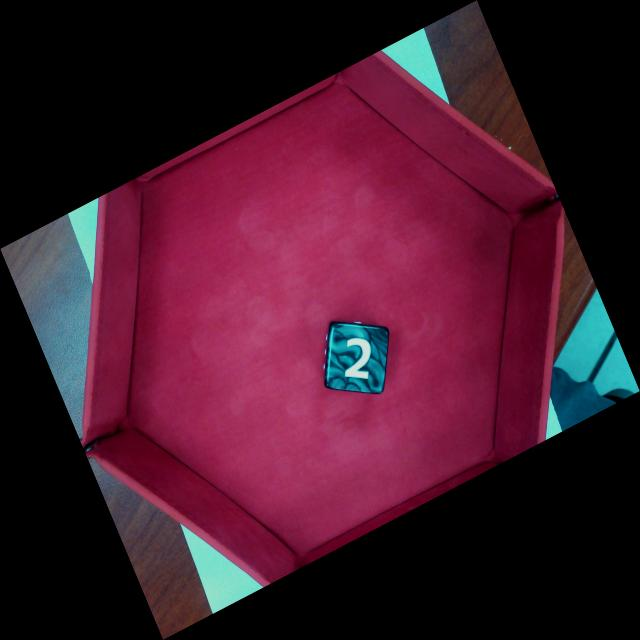dice: (331, 325, 387, 391)
